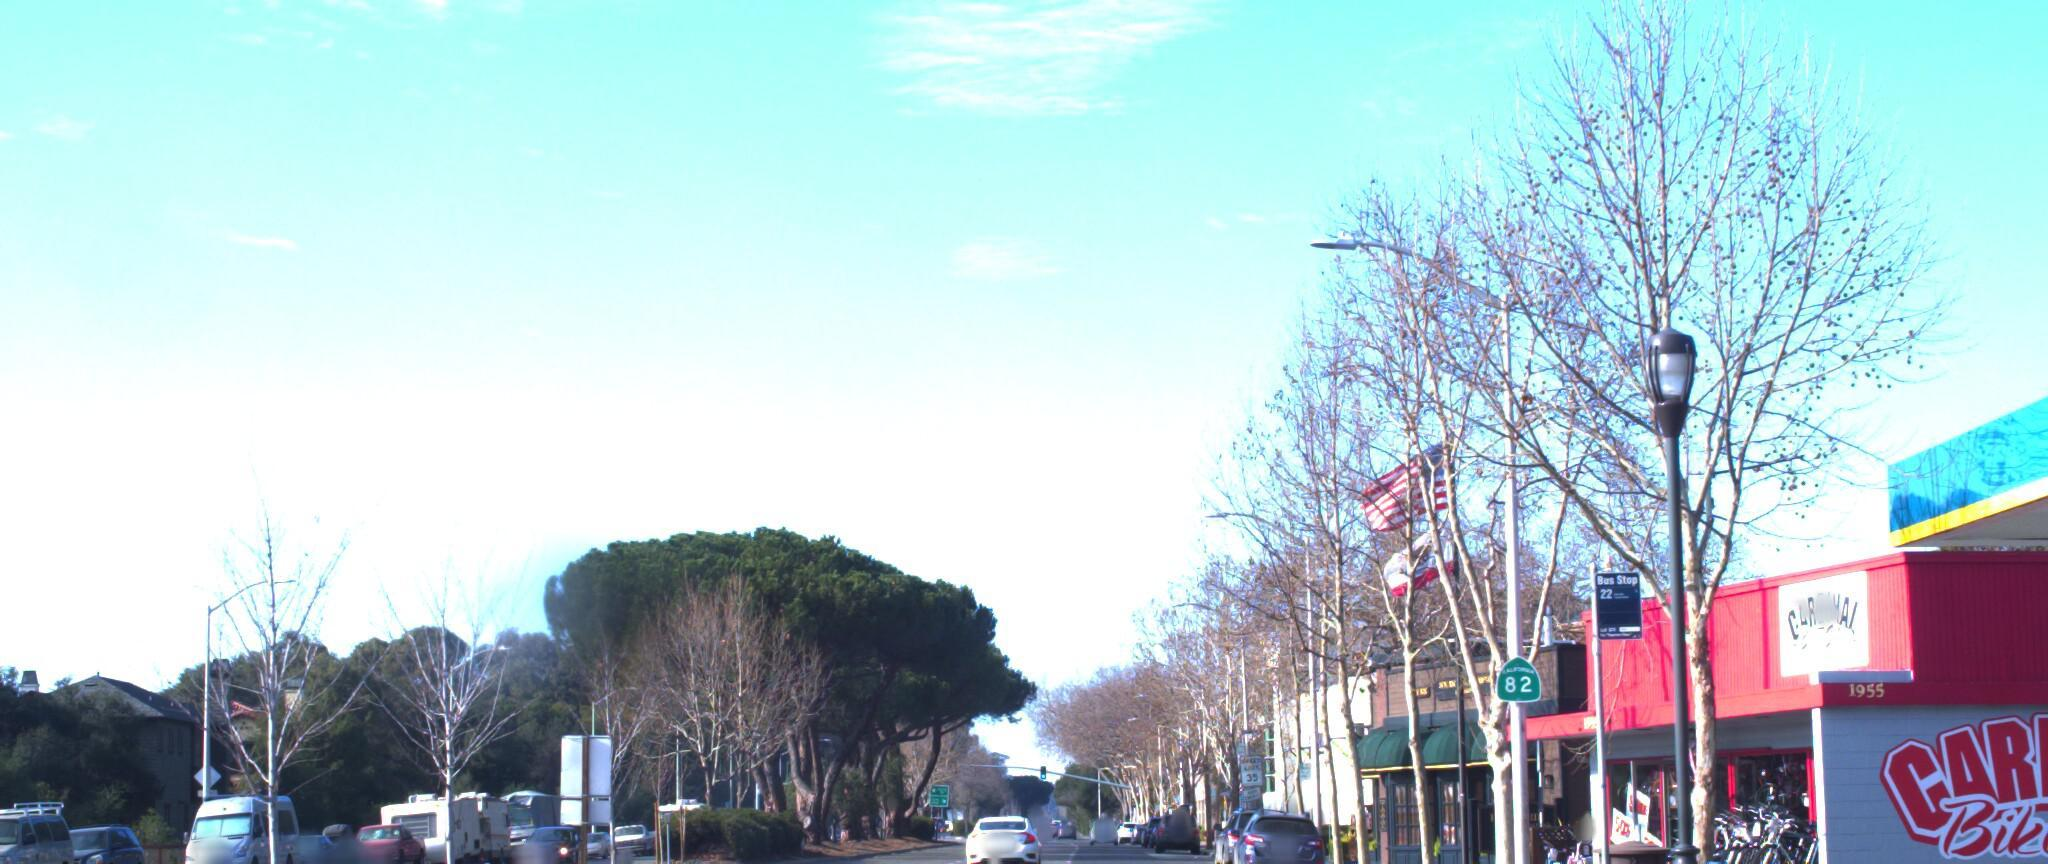bicycle: (1724, 786, 1848, 864)
car: (1229, 787, 1330, 864), (24, 808, 161, 864), (0, 787, 89, 864), (961, 794, 1048, 859), (0, 794, 16, 864)
